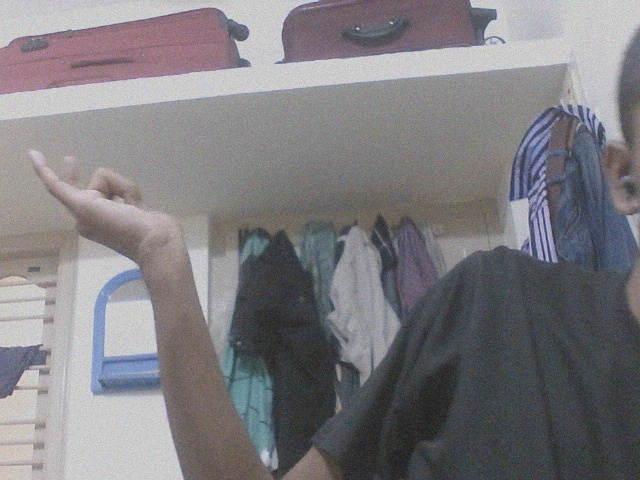hand: (25, 145, 188, 263)
